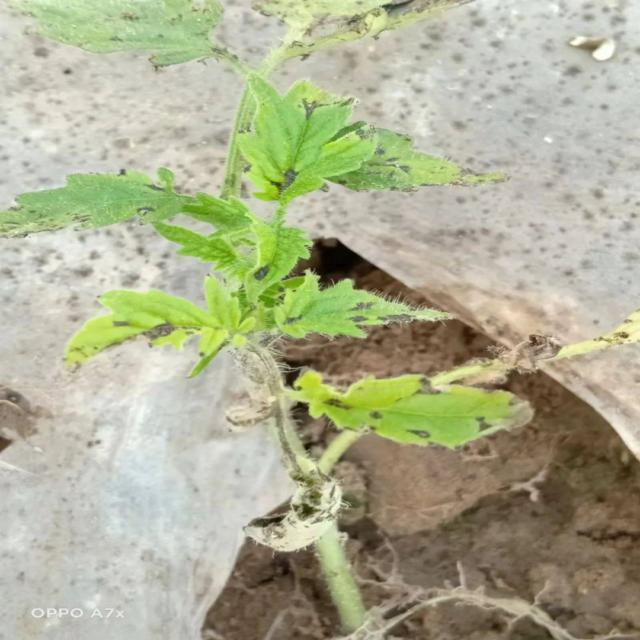Late_blight: (295, 1, 476, 48), (242, 473, 345, 551), (464, 328, 564, 382), (474, 388, 536, 438), (94, 316, 182, 350), (347, 297, 417, 330), (369, 138, 415, 178), (445, 162, 509, 188), (407, 374, 450, 403), (266, 164, 298, 195), (295, 96, 329, 119), (321, 392, 351, 413), (406, 424, 433, 444), (251, 261, 272, 282), (142, 182, 168, 194)
